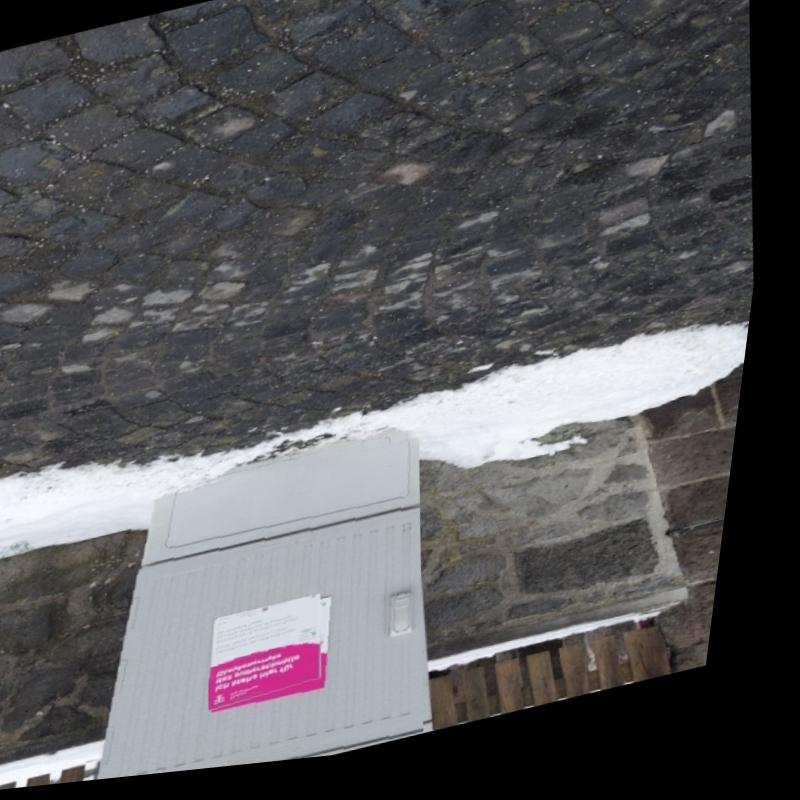NT-Gehause: (121, 444, 444, 784)
Steaker: (229, 602, 338, 716)
